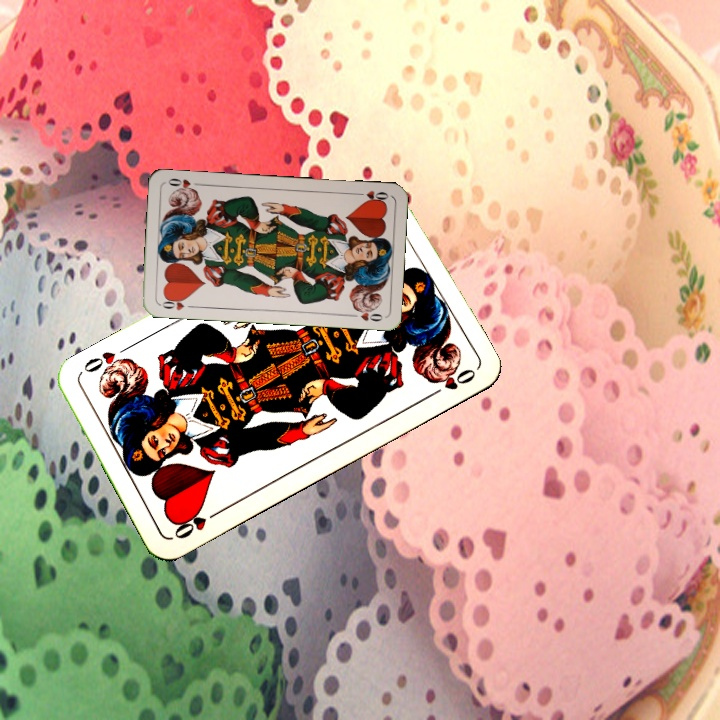HO: (170, 506, 223, 542), (156, 293, 197, 313), (351, 187, 391, 205)
